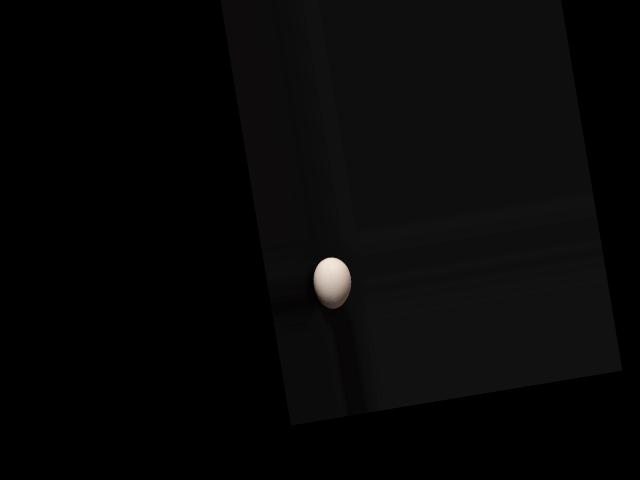egg: (309, 253, 354, 310)
